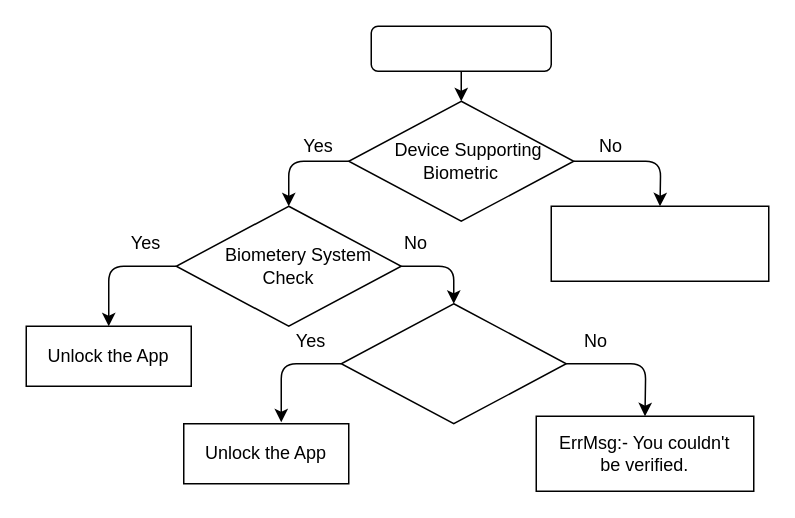
Image size: 795x518. Some labels were removed from this diagram. Here are the shapes that lost their labels. From the top down, the centre of each, then its label:
(460,48): Press Me
(659,243): ErrMsg:- Device is not configured for Biometric
(453,363): Enter Passcode
